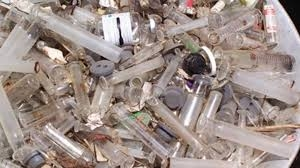plastic: (31, 8, 125, 63), (213, 59, 300, 107), (142, 96, 209, 154), (173, 72, 211, 158), (96, 54, 169, 92), (36, 119, 94, 164)
